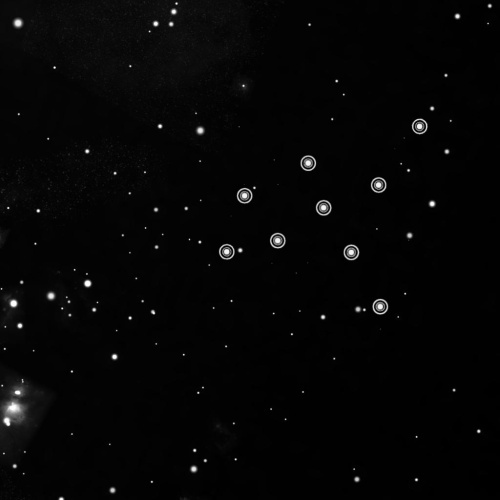cygnus: (216, 115, 430, 320)
